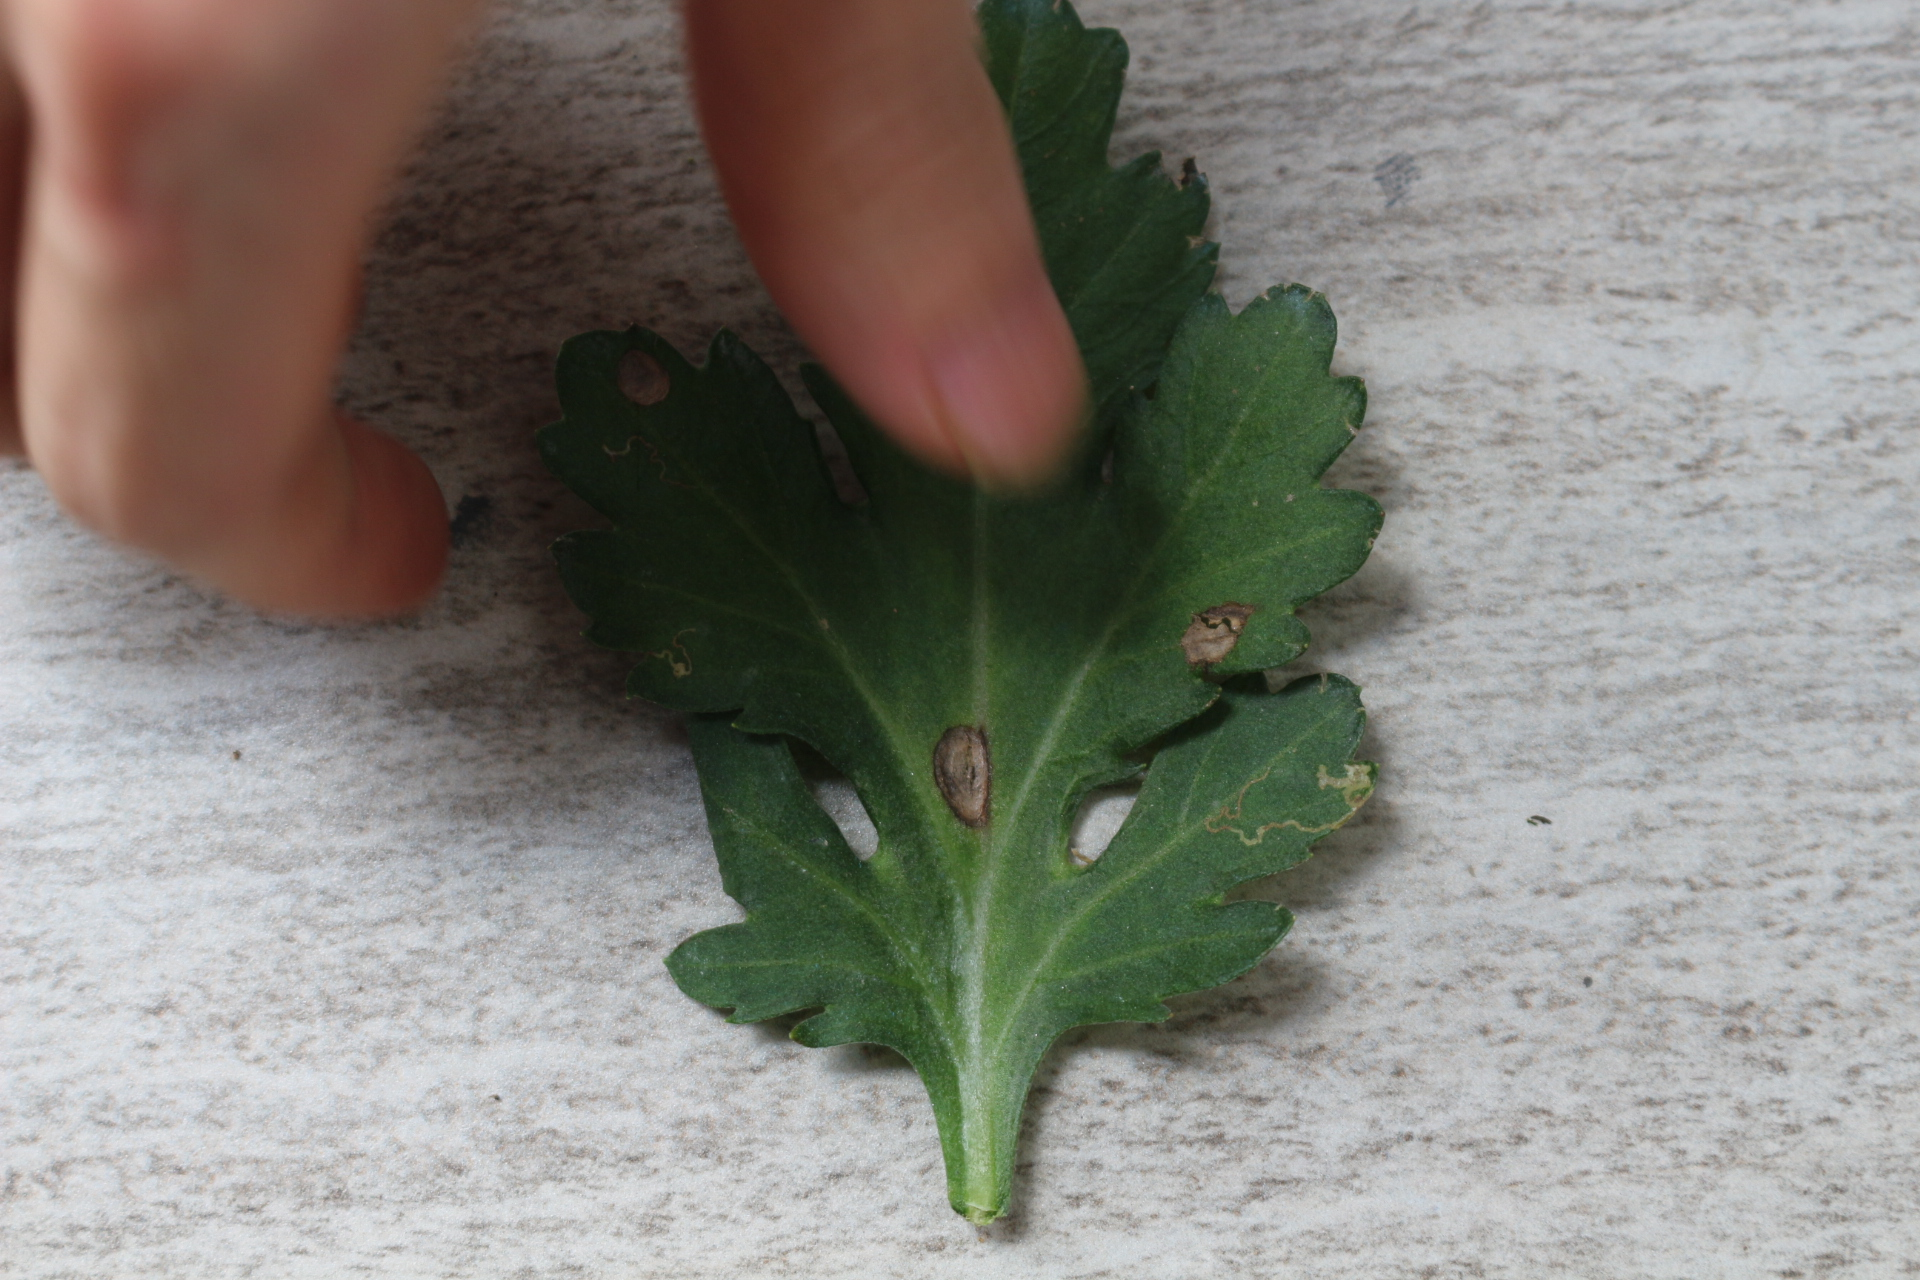namden: (929, 721, 1000, 839), (1181, 596, 1253, 670)
